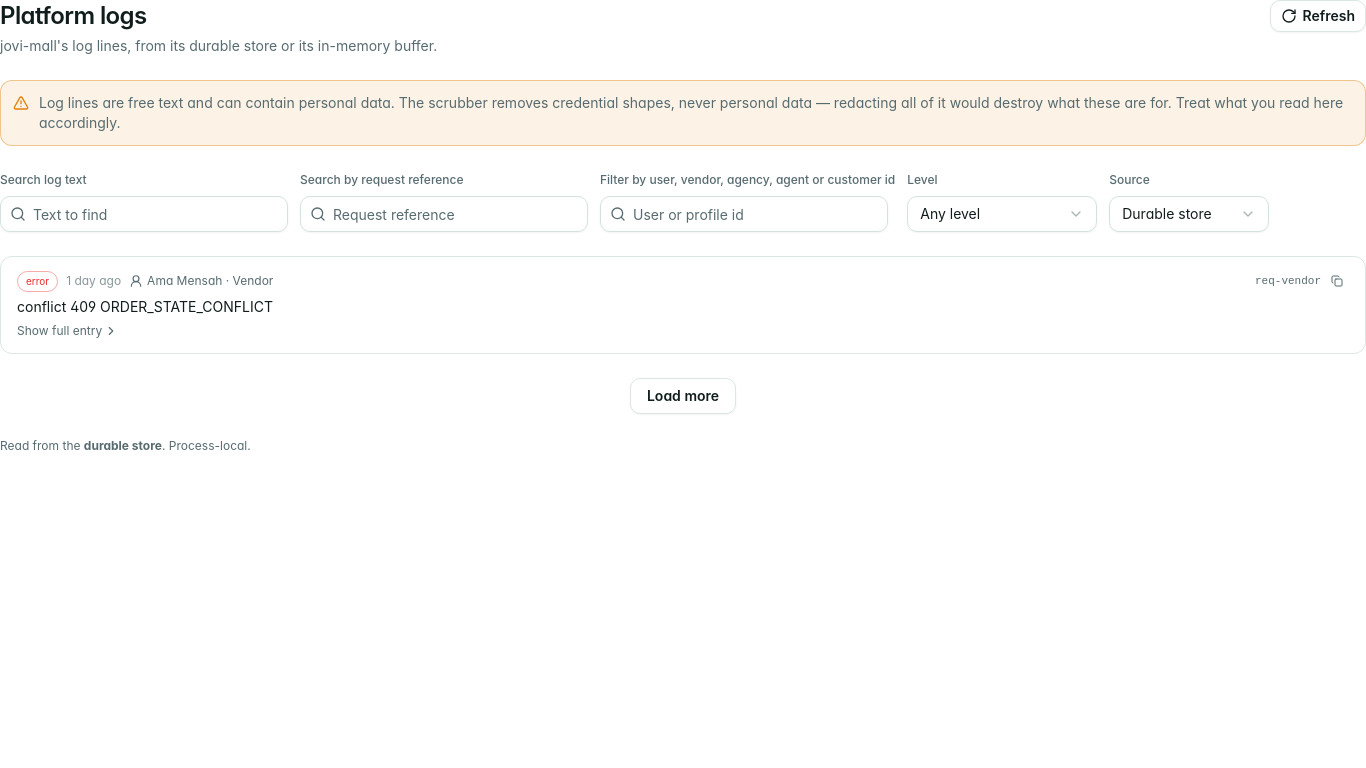
Test: Platform logs › labels the ids in the entry by namespace, never "Administrator" for a platform user
Click the button "conflict 409 ORDER_STATE_CONFLICT Show full entry".
click(145, 306)  # box [17,297,1349,341]
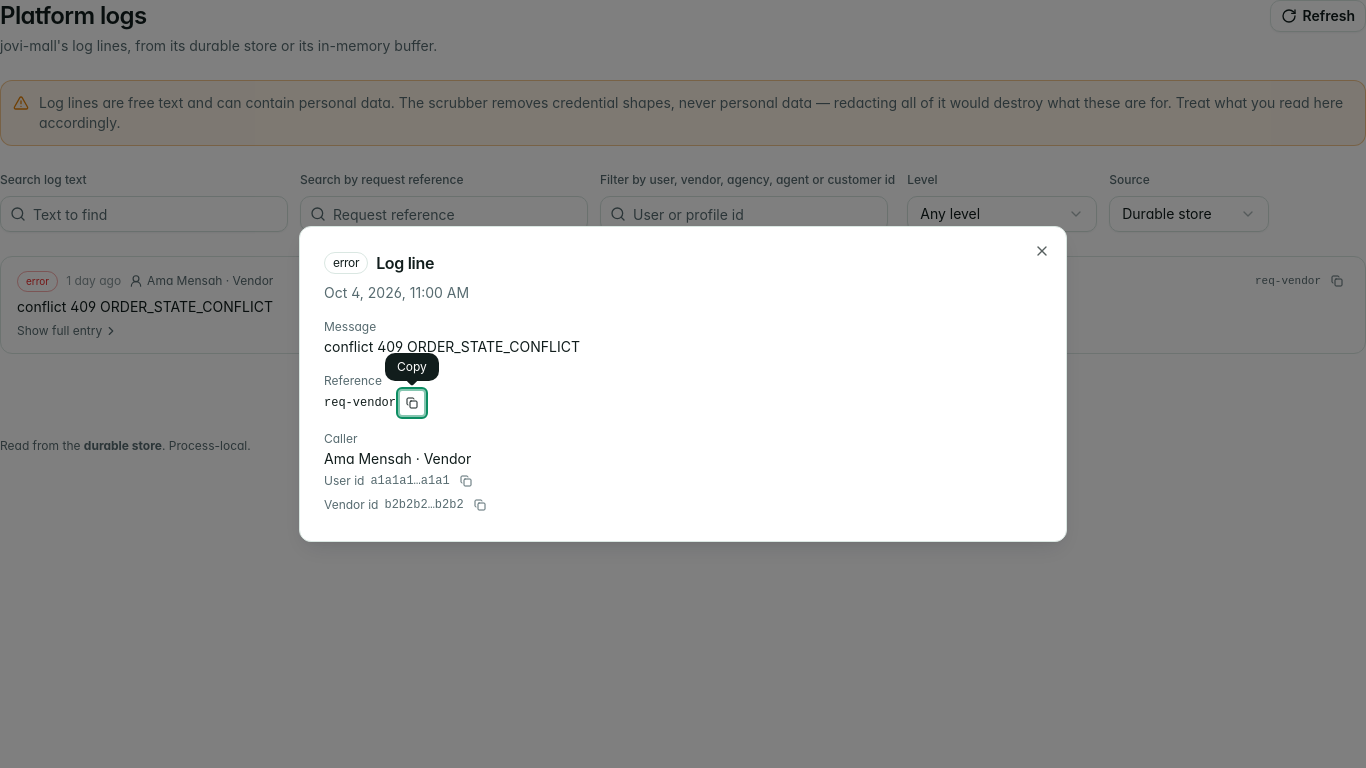
Result: the text "User id" is shown at [324,473,364,488]
Result: the text "Vendor id" is shown at [324,497,378,512]
